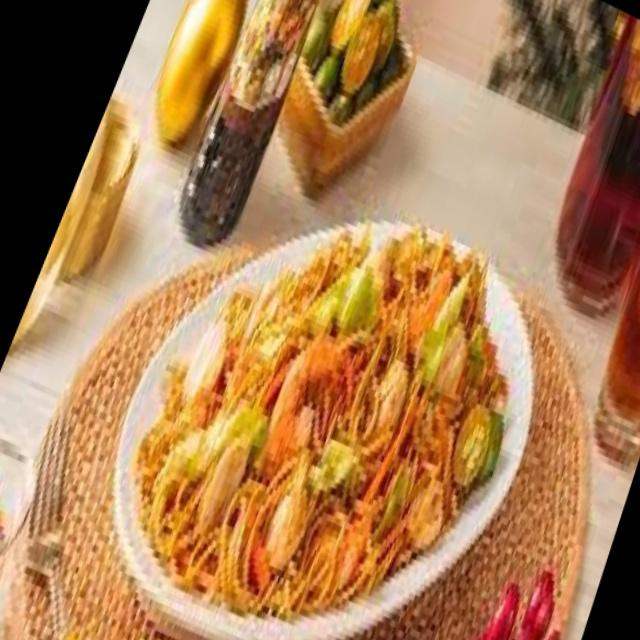pancit bihon: (148, 244, 493, 618)
